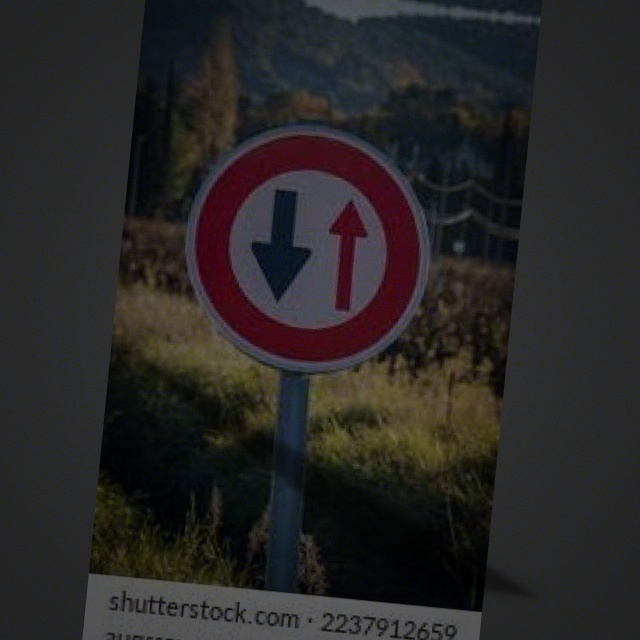Mandatory_Two_Way_Traffic: (176, 107, 458, 385)
